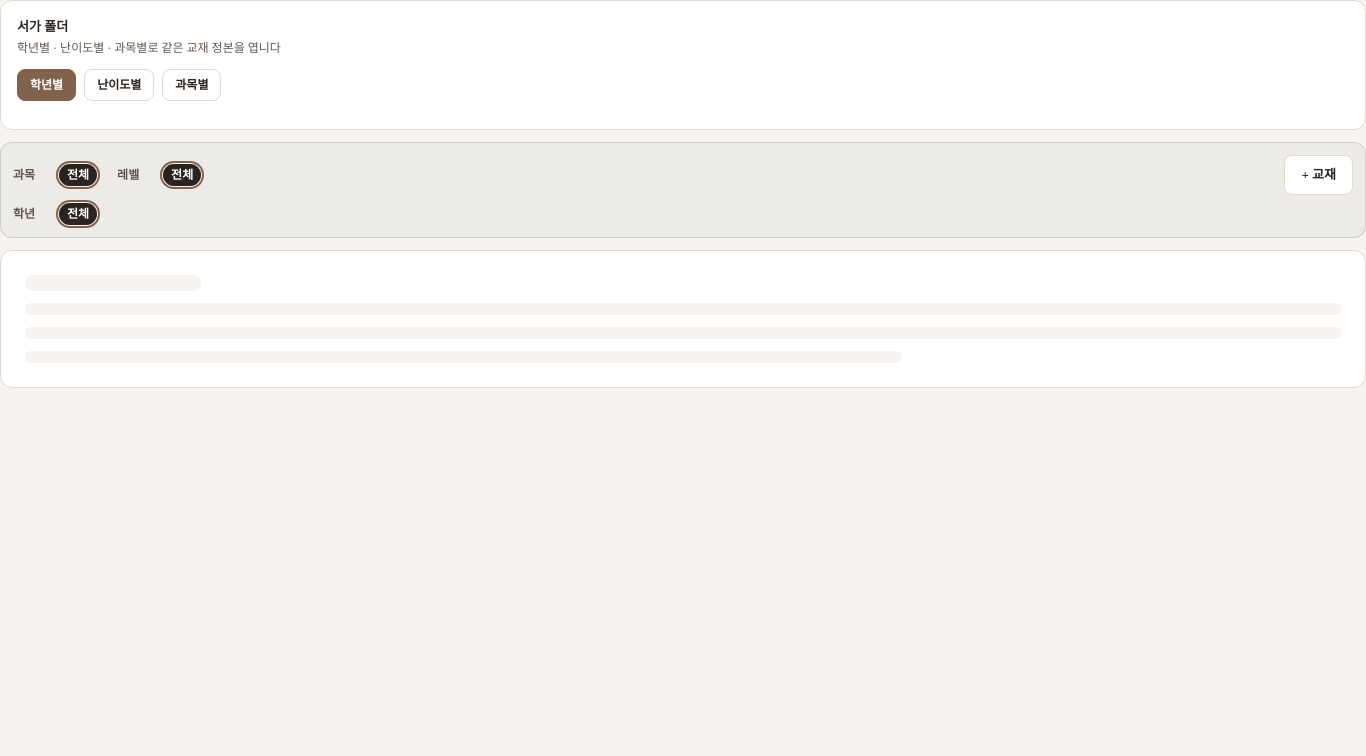
과목을 바꾸면 소분류가 비워진다 — 다른 과목의 소분류를 보내지 않는다
Click the button "+ 교재" at (1319, 174), box top-left (1284, 154), bottom-right (1353, 194)
(page scrolled)
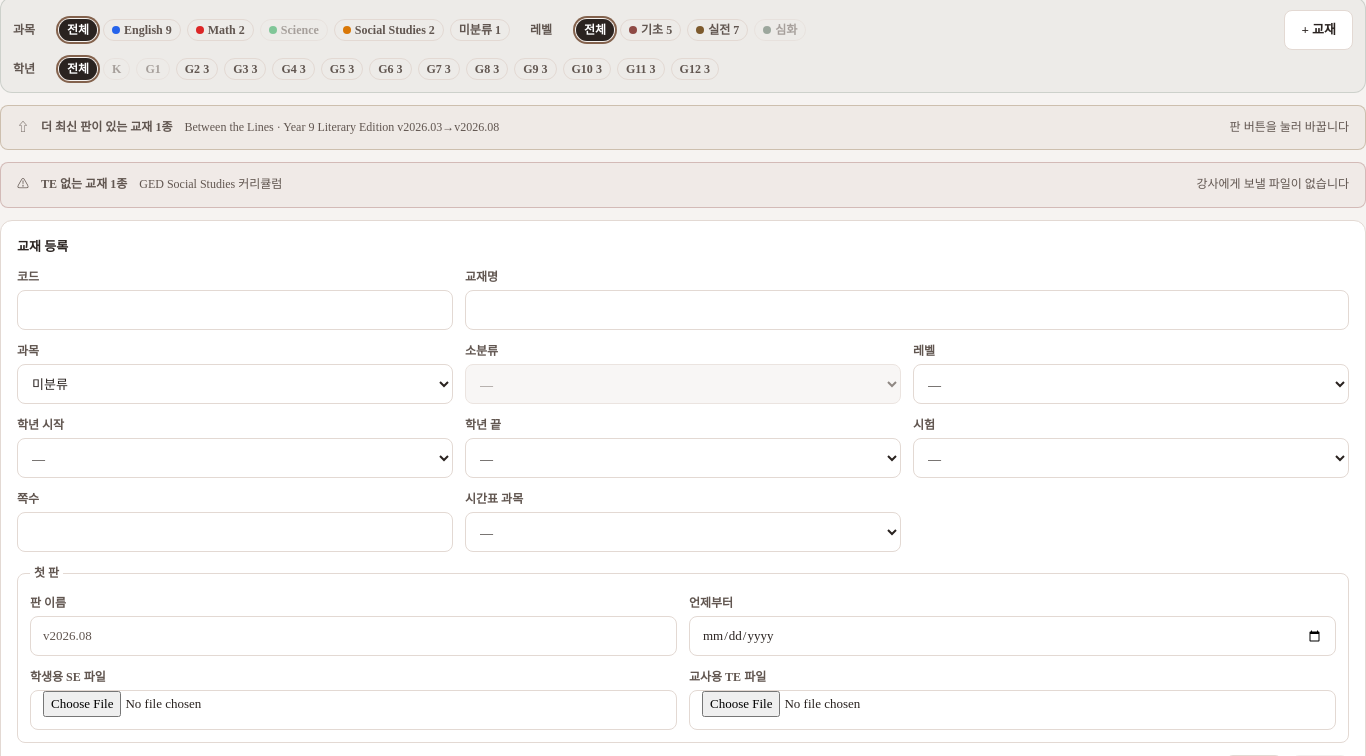
Select "English" in the dropdown labelled "과목" at (235, 384), box top-left (17, 364), bottom-right (453, 404)
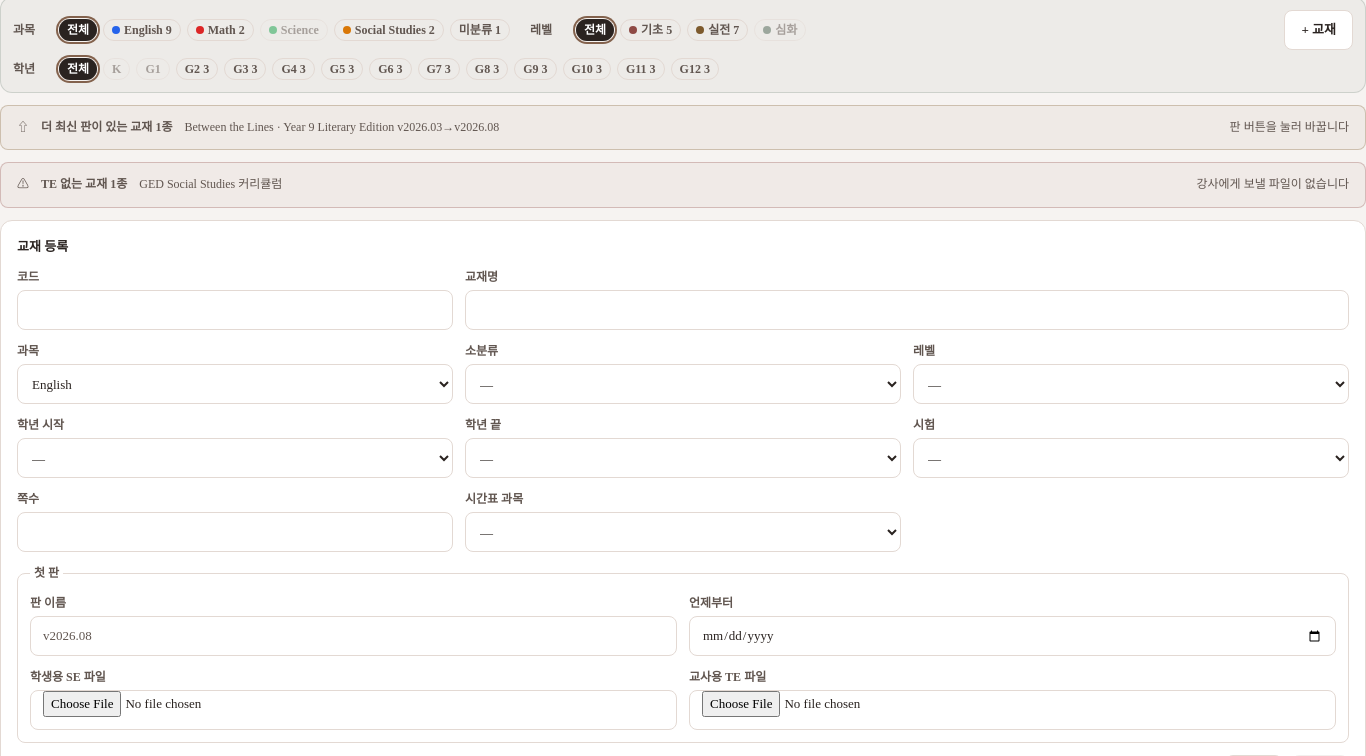
Select "Reading" in the dropdown labelled "소분류" at (683, 384), box top-left (465, 364), bottom-right (901, 404)
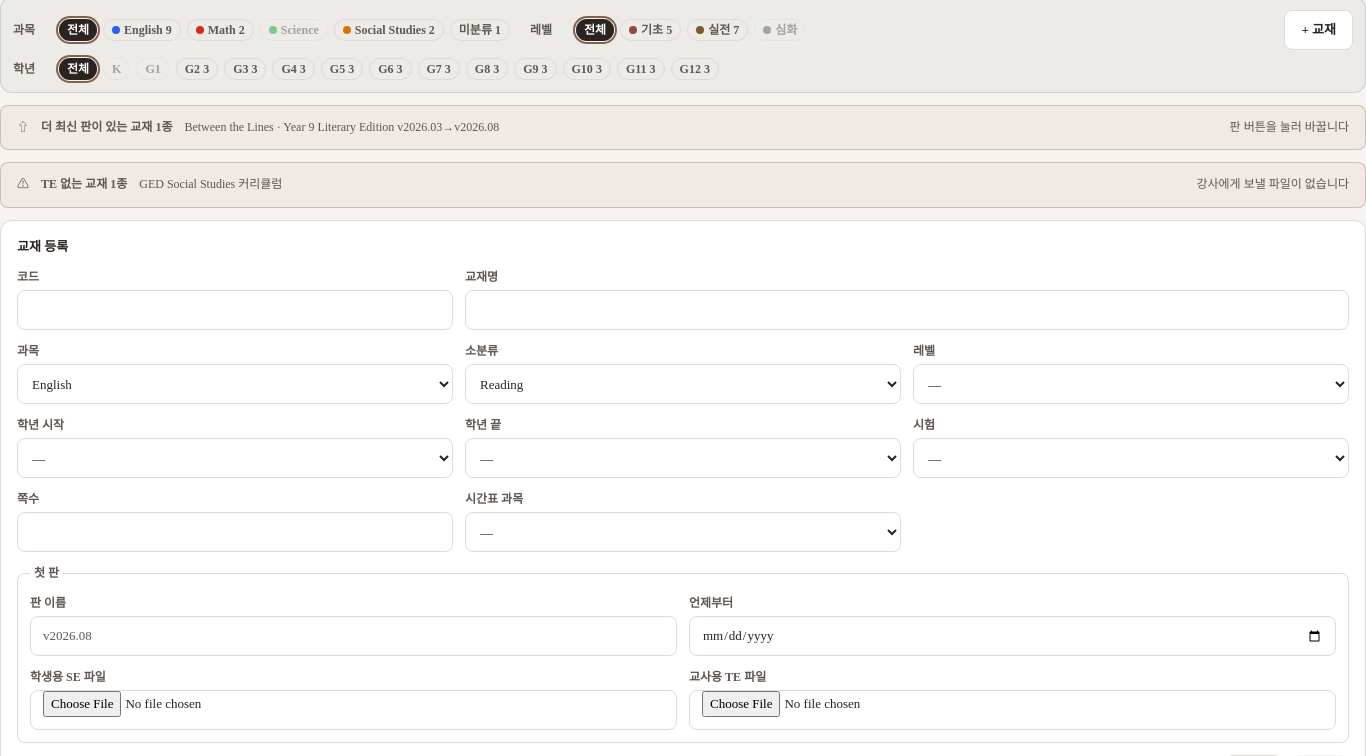
Select "Science" in the dropdown labelled "과목" at (235, 384), box top-left (17, 364), bottom-right (453, 404)
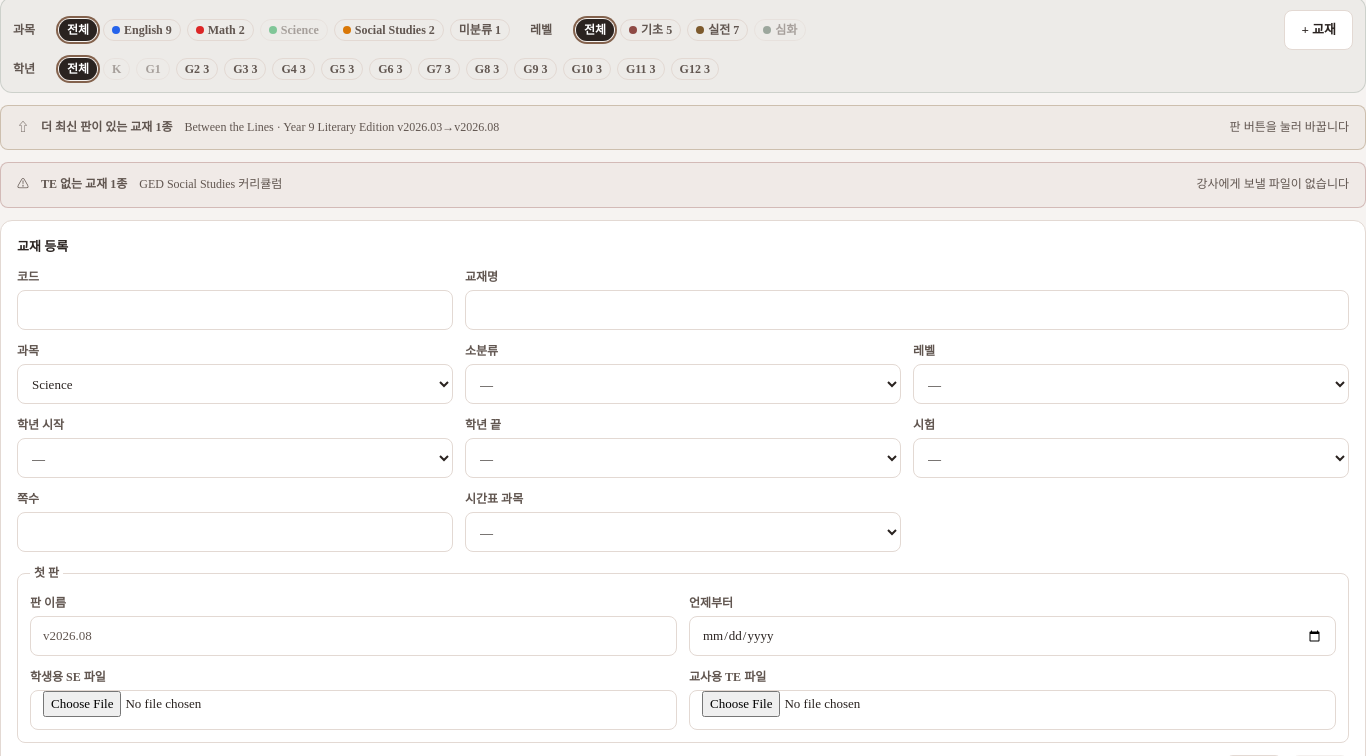
Select "Social Studies" in the dropdown labelled "과목" at (235, 384), box top-left (17, 364), bottom-right (453, 404)
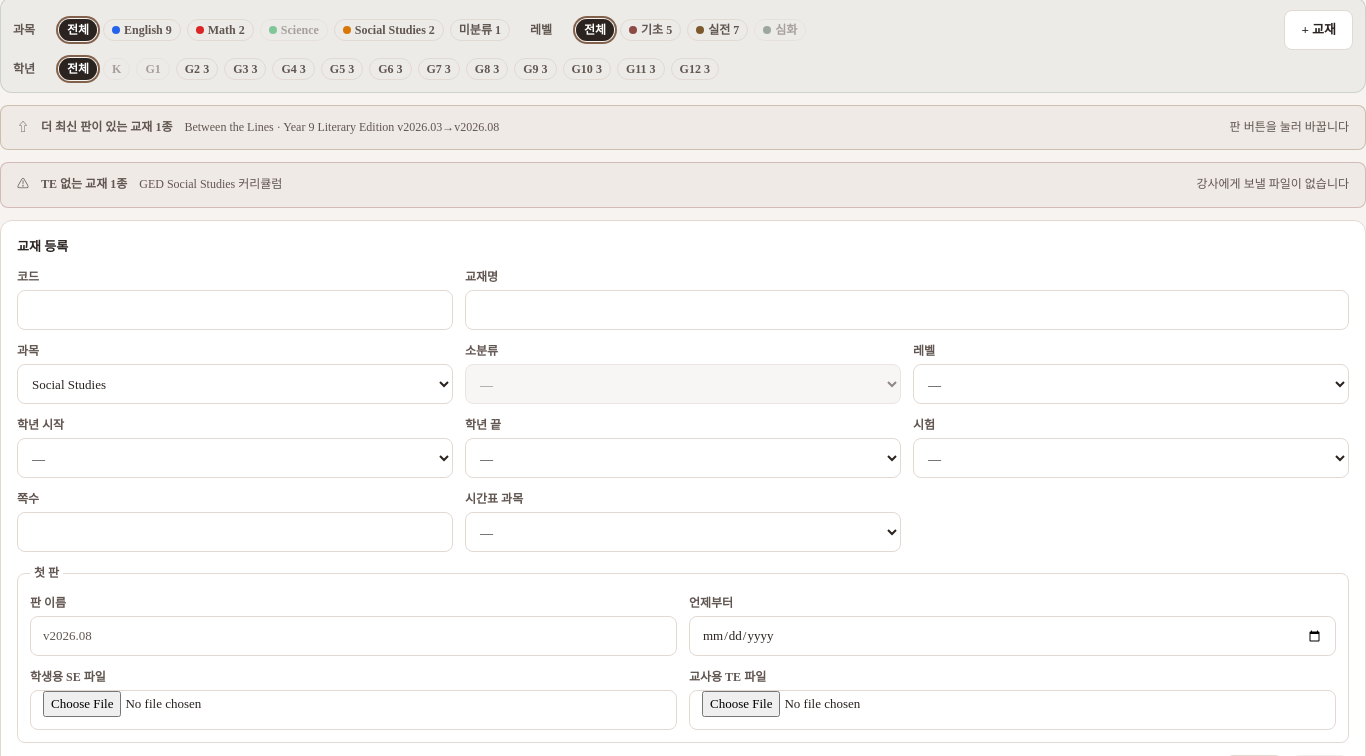
Expected: the dropdown labelled "소분류" is disabled, top-left (465, 364), bottom-right (901, 404)
